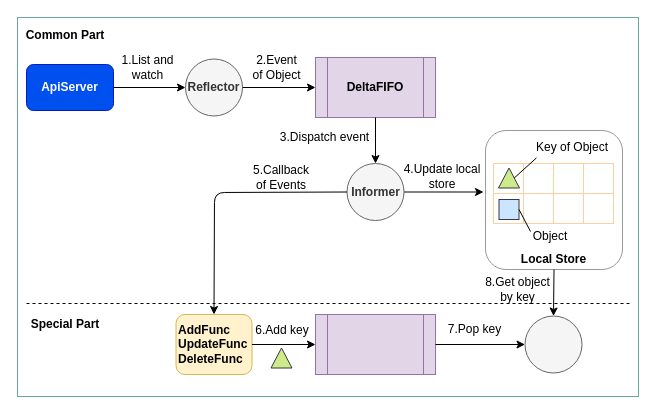
Image size: 656x414. Some labels were removed from this diagram. The shapes that lost their labels are listed below. From the top down, each one's centre as x and y in pixels, then its label:
(x=375, y=344): workQueue
(x=553, y=344): Reconcile
